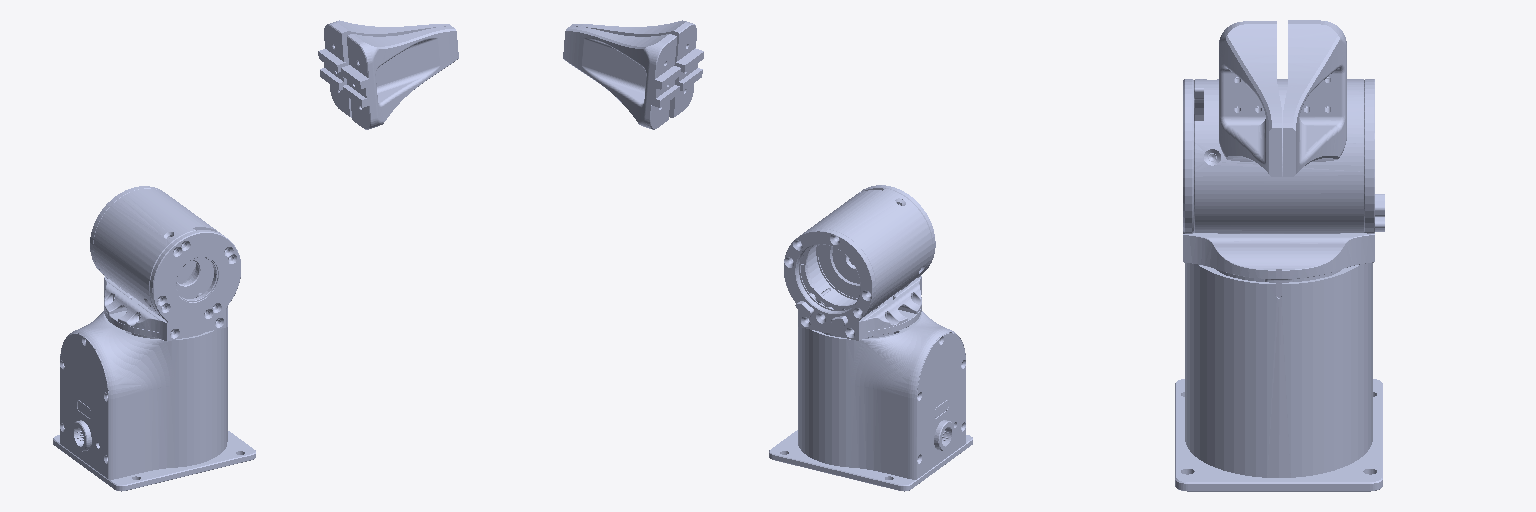
robot.urdf — piper_description:
<?xml version="1.0" encoding="utf-8"?>
<!-- This URDF was automatically created by SolidWorks to URDF Exporter! Originally created by [author] ([email redacted]) 
     Commit Version: 1.6.0-4-g7f85cfe  Build Version: 1.6.7995.38578
     For more information, please see http://wiki.ros.org/sw_urdf_exporter -->
<robot
  name="piper_description">
  <link
    name="base_link">
    <inertial>
      <origin
        xyz="-0.00973928490005031 1.83127089286717E-06 0.0410140167677137"
        rpy="0 0 0" />
      <mass
        value="0.0001" />
      <inertia
        ixx="0.000226592553127906"
        ixy="-7.33974356968615E-08"
        ixz="2.13221970218122E-06"
        iyy="0.000269447877479622"
        iyz="8.15167478682596E-09"
        izz="0.000222318286704" />
    </inertial>
    <visual>
      <origin
        xyz="0 0 0"
        rpy="1.5708 0 -1.5708" />
      <geometry>
        <mesh
          filename="package://piper_description/meshes/base_link.dae" />
      </geometry>
      <material
        name="">
        <color
          rgba="0.792156862745098 0.819607843137255 0.933333333333333 1" />
      </material>
    </visual>
    <collision>
      <origin
        xyz="0 0 0"
        rpy="0 0 0" />
      <geometry>
        <mesh
          filename="package://piper_description/meshes/base_link.STL" />
      </geometry>
    </collision>
  </link>
  <link
    name="link1">
    <inertial>
      <origin
        xyz="0.00131676031927021 0.000310288842008365 -0.00922874512303438"
        rpy="0 0 0" />
      <mass
        value="0.0001" />
      <inertia
        ixx="7.76684558296782E-05"
        ixy="1.09084650459916E-07"
        ixz="-1.97480532432411E-06"
        iyy="9.24967780161546E-05"
        iyz="9.91284646834672E-07"
        izz="8.24589062407806E-05" />
    </inertial>
    <visual>
      <origin
        xyz="0 0 0"
        rpy="1.5708 0 0" />
      <geometry>
        <mesh
          filename="package://piper_description/meshes/link1.dae" />
      </geometry>
      <material
        name="">
        <color
          rgba="0.792156862745098 0.819607843137255 0.933333333333333 1" />
      </material>
    </visual>
    <collision>
      <origin
        xyz="0 0 0"
        rpy="0 0 0" />
      <geometry>
        <mesh
          filename="package://piper_description/meshes/link1.STL" />
      </geometry>
    </collision>
  </link>
  <joint
    name="joint1"
    type="revolute">
    <origin
      xyz="0 0 0.123"
      rpy="0 0 -1.5708" />
    <parent
      link="base_link" />
    <child
      link="link1" />
    <axis
      xyz="0 0 1" />
    <limit
      lower="-2.618"
      upper="2.618"
      effort="100"
      velocity="3" />
  </joint>
  <link
    name="link2">
    <inertial>
      <origin
        xyz="0.147615838821413 -0.0174259998251394 0.00175952516190707"
        rpy="0 0 0" />
      <mass
        value="0.0001" />
      <inertia
        ixx="0.000150112628108228"
        ixy="8.58974959950769E-05"
        ixz="-1.07428153464284E-06"
        iyy="0.00172585302855383"
        iyz="-9.93704792239676E-07"
        izz="0.00177445942914759" />
    </inertial>
    <visual>
      <origin
        xyz="0 0 0"
        rpy="0 1.5708 -0.0873" />
      <geometry>
        <mesh
          filename="package://piper_description/meshes/link2.dae" />
      </geometry>
      <material
        name="">
        <color
          rgba="0.792156862745098 0.819607843137255 0.933333333333333 1" />
      </material>
    </visual>
    <collision>
      <origin
        xyz="0 0 0"
        rpy="0 0 0" />
      <geometry>
        <mesh
          filename="package://piper_description/meshes/link2.STL" />
      </geometry>
    </collision>
  </link>
  <joint
    name="joint2"
    type="revolute">
    <origin
      xyz="0 0 0"
      rpy="1.5708 -0.10095 -1.5708" />
    <parent
      link="link1" />
    <child
      link="link2" />
    <axis
      xyz="0 0 1" />
    <limit
      lower="0"
      upper="3.14"
      effort="100"
      velocity="3" />
  </joint>
  <link
    name="link3">
    <inertial>
      <origin
        xyz="0.0156727239770991 0.104466514402189 0.000508486576356504"
        rpy="0 0 0" />
      <mass
        value="0.0001" />
      <inertia
        ixx="0.00022168634302318"
        ixy="-7.57426147001315E-06"
        ixz="-6.36999759250492E-07"
        iyy="0.000100859159512329"
        iyz="-8.16199264787698E-07"
        izz="0.000241839306422341" />
    </inertial>
    <visual>
      <origin
        xyz="0 0 0"
        rpy="1.4835 1.5708 0" />
      <geometry>
        <mesh
          filename="package://piper_description/meshes/link3.dae" />
      </geometry>
      <material
        name="">
        <color
          rgba="0.792156862745098 0.819607843137255 0.933333333333333 1" />
      </material>
    </visual>
    <collision>
      <origin
        xyz="0 0 0"
        rpy="0 0 0" />
      <geometry>
        <mesh
          filename="package://piper_description/meshes/link3.STL" />
      </geometry>
    </collision>
  </link>
  <joint
    name="joint3"
    type="revolute">
    <origin
      xyz="0.28503 0 0"
      rpy="0 0 1.3826" />
    <parent
      link="link2" />
    <child
      link="link3" />
    <axis
      xyz="0 0 1" />
    <limit
      lower="-2.697"
      upper="0"
      effort="100"
      velocity="3" />
  </joint>
  <link
    name="link4">
    <inertial>
      <origin
        xyz="0.000276464622388145 -0.00102803669324856 -0.00472830700561582"
        rpy="0 0 0" />
      <mass
        value="0.0001" />
      <inertia
        ixx="3.82011730423392E-05"
        ixy="-4.92358350916331E-08"
        ixz="4.89589432971791E-08"
        iyy="4.87048555222583E-05"
        iyz="6.70802942501353E-08"
        izz="4.10592077565539E-05" />
    </inertial>
    <visual>
      <origin
        xyz="0 0 0"
        rpy="1.48 0 1.5708" />
      <geometry>
        <mesh
          filename="package://piper_description/meshes/link4.dae" />
      </geometry>
      <material
        name="">
        <color
          rgba="0.792156862745098 0.819607843137255 0.933333333333333 1" />
      </material>
    </visual>
    <collision>
      <origin
        xyz="0 0 0"
        rpy="0 0 0" />
      <geometry>
        <mesh
          filename="package://piper_description/meshes/link4.STL" />
      </geometry>
    </collision>
  </link>
  <joint
    name="joint4"
    type="revolute">
    <origin
      xyz="0.021984 0.25075 0"
      rpy="-1.5708 0 0" />
    <parent
      link="link3" />
    <child
      link="link4" />
    <axis
      xyz="0 0 1" />
    <limit
      lower="-1.832"
      upper="1.832"
      effort="100"
      velocity="3" />
  </joint>
  <link
    name="link5">
    <inertial>
      <origin
        xyz="8.82262433637704E-05 0.0566829014808264 -0.00196119720482555"
        rpy="0 0 0" />
      <mass
        value="0.0001" />
      <inertia
        ixx="4.39644313661978E-05"
        ixy="-3.59259686449865E-08"
        ixz="-1.89747741592145E-08"
        iyy="5.6317392095077E-05"
        iyz="-2.1540716689678E-07"
        izz="4.88713664675246E-05" />
    </inertial>
    <visual>
      <origin
        xyz="0 0 0"
        rpy="1.5 1.5708 0" />
      <geometry>
        <mesh
          filename="package://piper_description/meshes/link5.dae" />
      </geometry>
      <material
        name="">
        <color
          rgba="0.792156862745098 0.819607843137255 0.933333333333333 1" />
      </material>
    </visual>
    <collision>
      <origin
        xyz="0 0 0"
        rpy="0 0 0" />
      <geometry>
        <mesh
          filename="package://piper_description/meshes/link5.STL" />
      </geometry>
    </collision>
  </link>
  <joint
    name="joint5"
    type="revolute">
    <origin
      xyz="0 0 0"
      rpy="1.5708 0 0" />
    <parent
      link="link4" />
    <child
      link="link5" />
    <axis
      xyz="0 0 1" />
    <limit
      lower="-1.22"
      upper="1.22"
      effort="100"
      velocity="3" />
  </joint>
  <link
    name="link6">
    <inertial>
      <origin
        xyz="1.16933298222217E-08 0.00034121124902961 0.0342122963963336"
        rpy="0 0 0" />
      <mass
        value="0.0001" />
      <inertia
        ixx="4.31750624665837E-05"
        ixy="-2.21358545270113E-08"
        ixz="-4.12717194808373E-12"
        iyy="9.99756712688719E-05"
        iyz="1.10337149130826E-07"
        izz="0.000118282337309882" />
    </inertial>
    <visual>
      <origin
        xyz="0 0 0"
        rpy="3.14159 0 3.14159" />
      <geometry>
        <mesh
          filename="package://piper_description/meshes/link6.dae" />
      </geometry>
      <material
        name="">
        <color
          rgba="0.792156862745098 0.819607843137255 0.933333333333333 1" />
      </material>
    </visual>
    <collision>
      <origin
        xyz="0 0 0"
        rpy="0 0 0" />
      <geometry>
        <mesh
          filename="package://piper_description/meshes/link6.STL" />
      </geometry>
    </collision>
  </link>
  <joint
    name="joint6"
    type="revolute">
    <origin
      xyz="0 0.091 0.0014165"
      rpy="-1.5708 -1.5708 0" />
    <parent
      link="link5" />
    <child
      link="link6" />
    <axis
      xyz="0 0 1" />
    <limit
      lower="-3.14"
      upper="3.14"
      effort="100"
      velocity="3" />
  </joint>
  <link
    name="link7">
    <inertial>
      <origin
        xyz="-0.00027777838372664 -0.0467673043652057 -0.00921029491873199"
        rpy="0 0 0" />
      <mass
        value="0.0001" />
      <inertia
        ixx="9.99787479924596E-06"
        ixy="-1.57548495096094E-07"
        ixz="-2.71342775003444E-08"
        iyy="6.17952122936548E-06"
        iyz="-1.58939803580081E-06"
        izz="1.42102717246565E-05" />
    </inertial>
    <visual>
      <origin
        xyz="0 0 0"
        rpy="-0.0873 -1.5708 1.5708" />
      <geometry>
        <mesh
          filename="package://piper_description/meshes/link7.dae" />
      </geometry>
      <material
        name="">
        <color
          rgba="0.792156862745098 0.819607843137255 0.933333333333333 1" />
      </material>
    </visual>
    <collision>
      <origin
        xyz="0 0 0"
        rpy="0 0 0" />
      <geometry>
        <mesh
          filename="package://piper_description/meshes/link7.STL" />
      </geometry>
    </collision>
  </link>
  <joint
    name="joint7"
    type="prismatic">
    <origin
      xyz="-0.0001 0 0.13503"
      rpy="1.5708 0 1.5708" />
    <parent
      link="link6" />
    <child
      link="link7" />
    <axis
      xyz="0 0 -1" />
    <limit
      lower="0"
      upper="0.04"
      effort="10"
      velocity="1" />
  </joint>
  <link
    name="link8">
    <inertial>
      <origin
        xyz="0.000277816920932594 0.0467673824062785 -0.00921030054507634"
        rpy="0 0 0" />
      <mass
        value="0.0001" />
      <inertia
        ixx="9.99779119361565E-06"
        ixy="-1.5754228345079E-07"
        ixz="2.7136744671289E-08"
        iyy="6.17952441558639E-06"
        iyz="1.58939319453633E-06"
        izz="1.42101927545622E-05" />
    </inertial>
    <visual>
      <origin
        xyz="0 0 0"
        rpy="-0.0873 1.5708 1.5708" />
      <geometry>
        <mesh
          filename="package://piper_description/meshes/link8.dae" />
      </geometry>
      <material
        name="">
        <color
          rgba="0.792156862745098 0.819607843137255 0.933333333333333 1" />
      </material>
    </visual>
    <collision>
      <origin
        xyz="0 0 0"
        rpy="0 0 0" />
      <geometry>
        <mesh
          filename="package://piper_description/meshes/link8.STL" />
      </geometry>
    </collision>
  </link>
  <joint
    name="joint8"
    type="prismatic">
    <origin
      xyz="0.0001 0 0.13503"
      rpy="-1.5708 0 1.5708" />
    <parent
      link="link6" />
    <child
      link="link8" />
    <axis
      xyz="0 0 1" />
    <limit
      lower="-0.04"
      upper="0"
      effort="10"
      velocity="1" />
  </joint>
</robot>

--- Render facts (derived) ---
The picture shows the robot from 3 angles, left to right: view 1: azimuth 30°, elevation 25°; view 2: azimuth 150°, elevation 25°; view 3: azimuth 270°, elevation 25°; orthographic projection.
Model piper_description with 9 links and 8 joints (6 revolute, 2 prismatic), rooted at base_link, posed every joint at zero.
Visible links, largest first — view 1: base_link, link1, link7, link8; view 2: base_link, link1, link8, link7; view 3: base_link, link1, link8, link7.
Boxes of the visible links, box(x1,y1,x2,y2) form: base_link: box(53, 311, 255, 491); link1: box(90, 186, 240, 341); link7: box(341, 26, 458, 129); link8: box(318, 20, 450, 117); base_link: box(769, 311, 972, 491); link1: box(784, 185, 935, 340); link8: box(563, 26, 680, 129); link7: box(571, 20, 703, 117); base_link: box(1175, 263, 1382, 491); link1: box(1183, 79, 1384, 282); link8: box(1283, 20, 1346, 176); link7: box(1219, 21, 1281, 176).
Bounding box of the posed robot: 0.2538 × 0.0808 × 0.2377 m (x, y, z).
4 mesh visuals loaded from 9 distinct referenced files (4 Collada DAE); not drawn: 5 (reference not matched to a file when rendering).